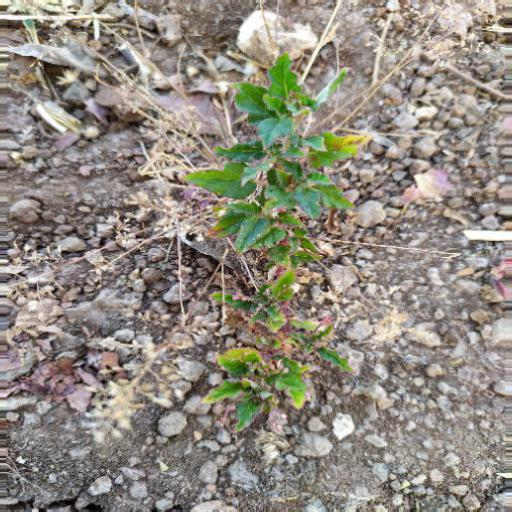weed: (139, 18, 382, 400)
